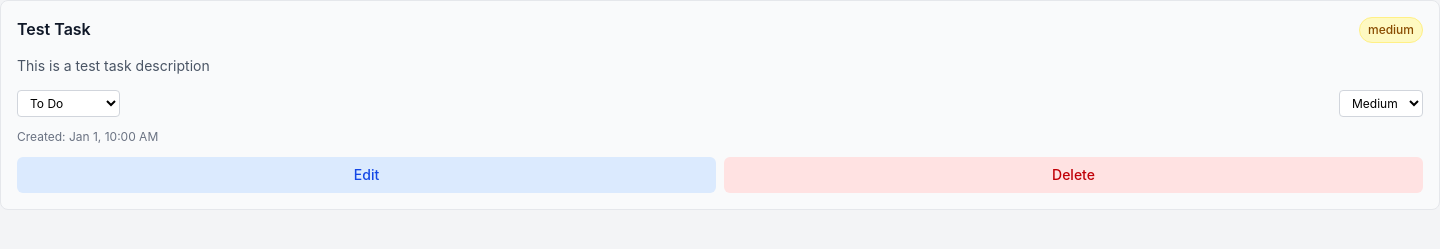
TaskCard › restores original values when Cancel is clicked in edit mode
Click the button "Edit". click: (366, 175)
box: 17,157 -> 716,193
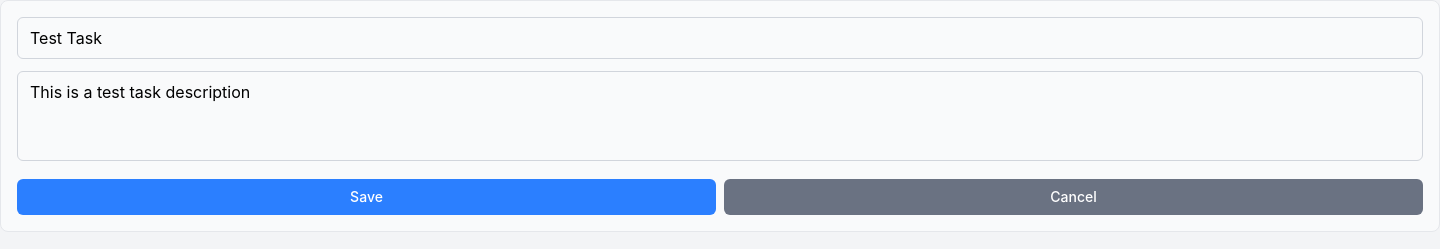
Replace the text in the field with placeholder "Task title" with "Changed Title". click: (720, 38)
box: 17,17 -> 1423,59
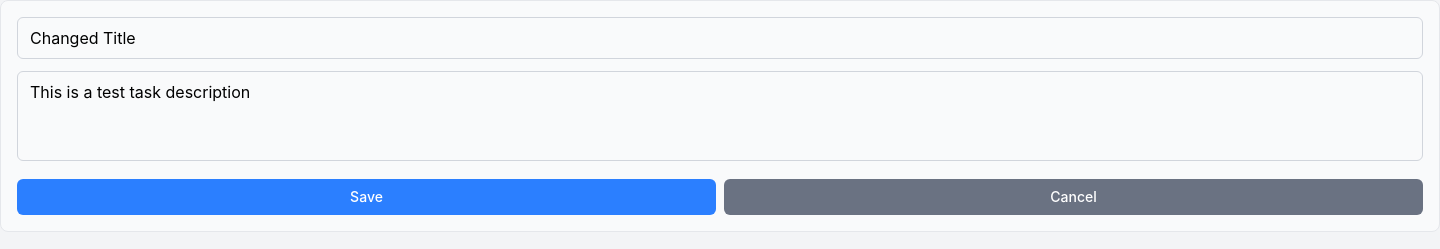
Click the button "Cancel". click: (1074, 197)
box: 724,179 -> 1423,215
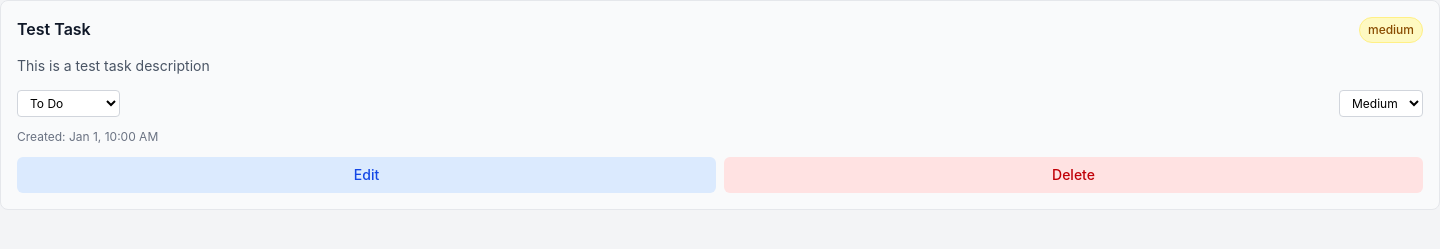
Now the heading "Test Task" is shown, box 17,19 -> 91,39
